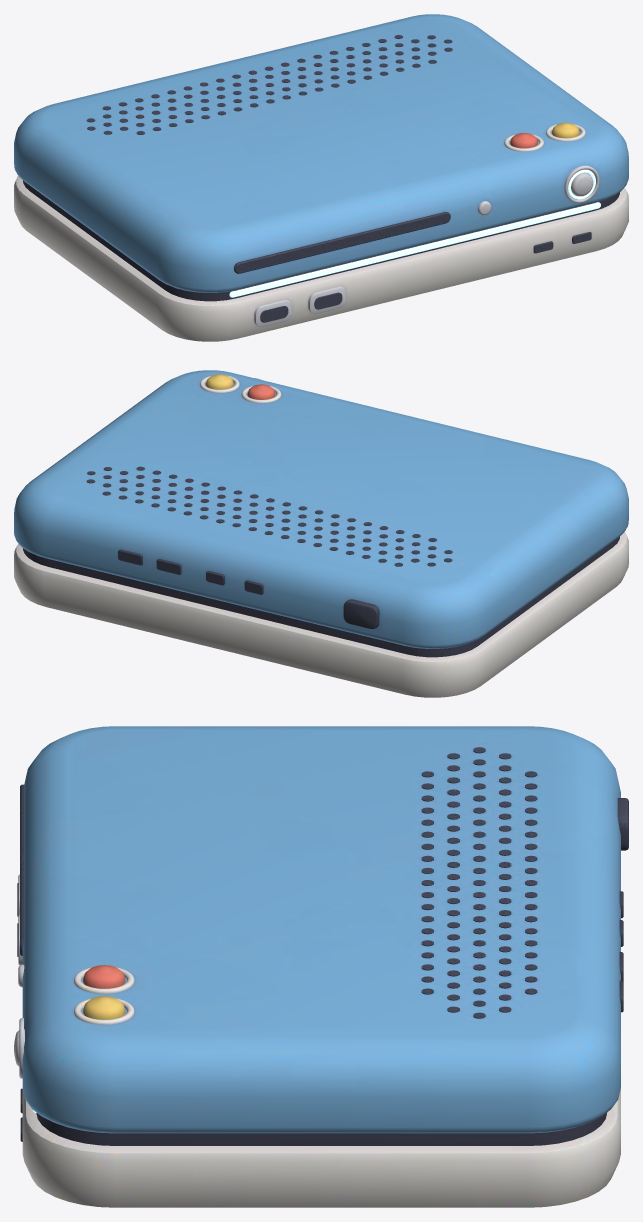
File: videoconsola.glb
The picture shows the model from 3 angles, top to bottom: view 1: azimuth 30°, elevation 25°; view 2: azimuth 150°, elevation 25°; view 3: azimuth 270°, elevation 25°; orthographic projection. The views are drawn at different scales.
Parts seen in each view (by area): view 1: game-console_body; view 2: game-console_body; view 3: game-console_body.
Boxes of the visible parts, left/top/right/bottom form: game-console_body: left=14, top=14, right=628, bottom=341; game-console_body: left=14, top=370, right=628, bottom=697; game-console_body: left=14, top=726, right=628, bottom=1207.
Bounding box in the file's own units: 0.3 × 0.0774 × 0.2262.
2 materials, 1 textured.
